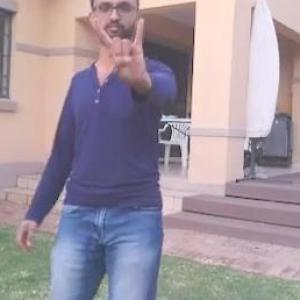takeoff-hand: (88, 7, 154, 93)
